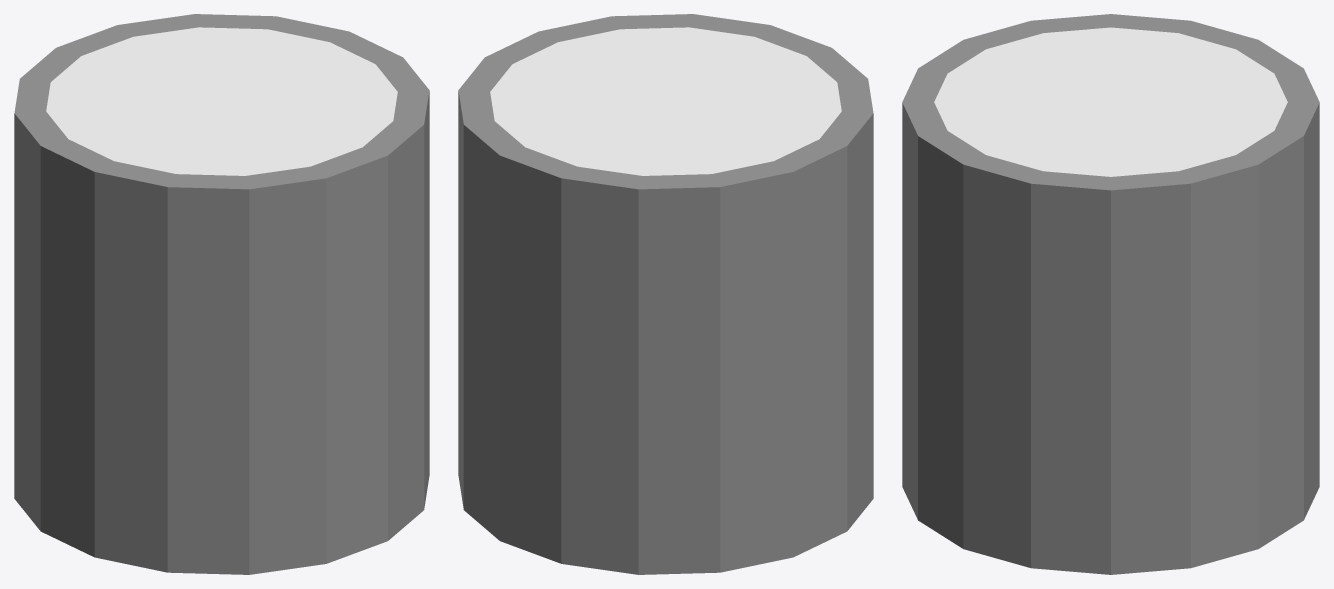
Rendered from roundchunk.fbx.
The picture shows the model from 3 angles, left to right: view 1: azimuth 30°, elevation 25°; view 2: azimuth 150°, elevation 25°; view 3: azimuth 270°, elevation 25°; orthographic projection.
Parts seen in each view (by area): view 1: roundchunk; view 2: roundchunk; view 3: roundchunk.
Boxes of the visible parts, left/top/right/bottom form: roundchunk: left=14, top=14, right=429, bottom=574; roundchunk: left=458, top=14, right=873, bottom=574; roundchunk: left=902, top=14, right=1319, bottom=574.
Size of the model in its own units: 65.5 by 65.5 by 66.57.
